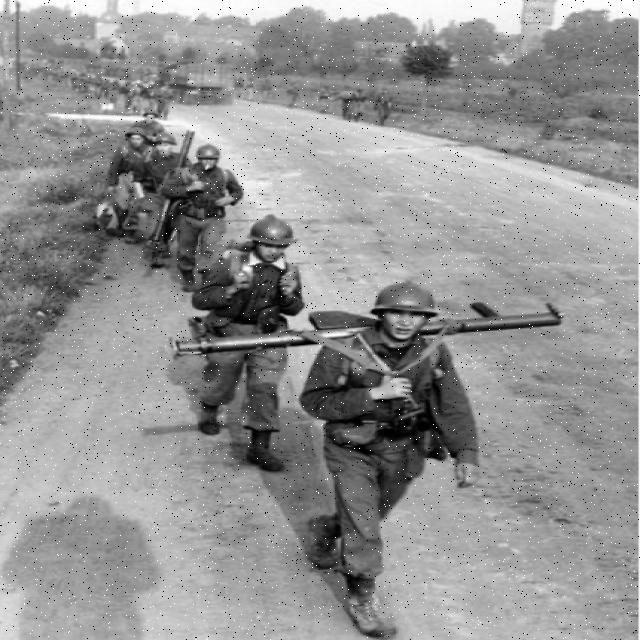bazooka: (175, 299, 576, 376)
